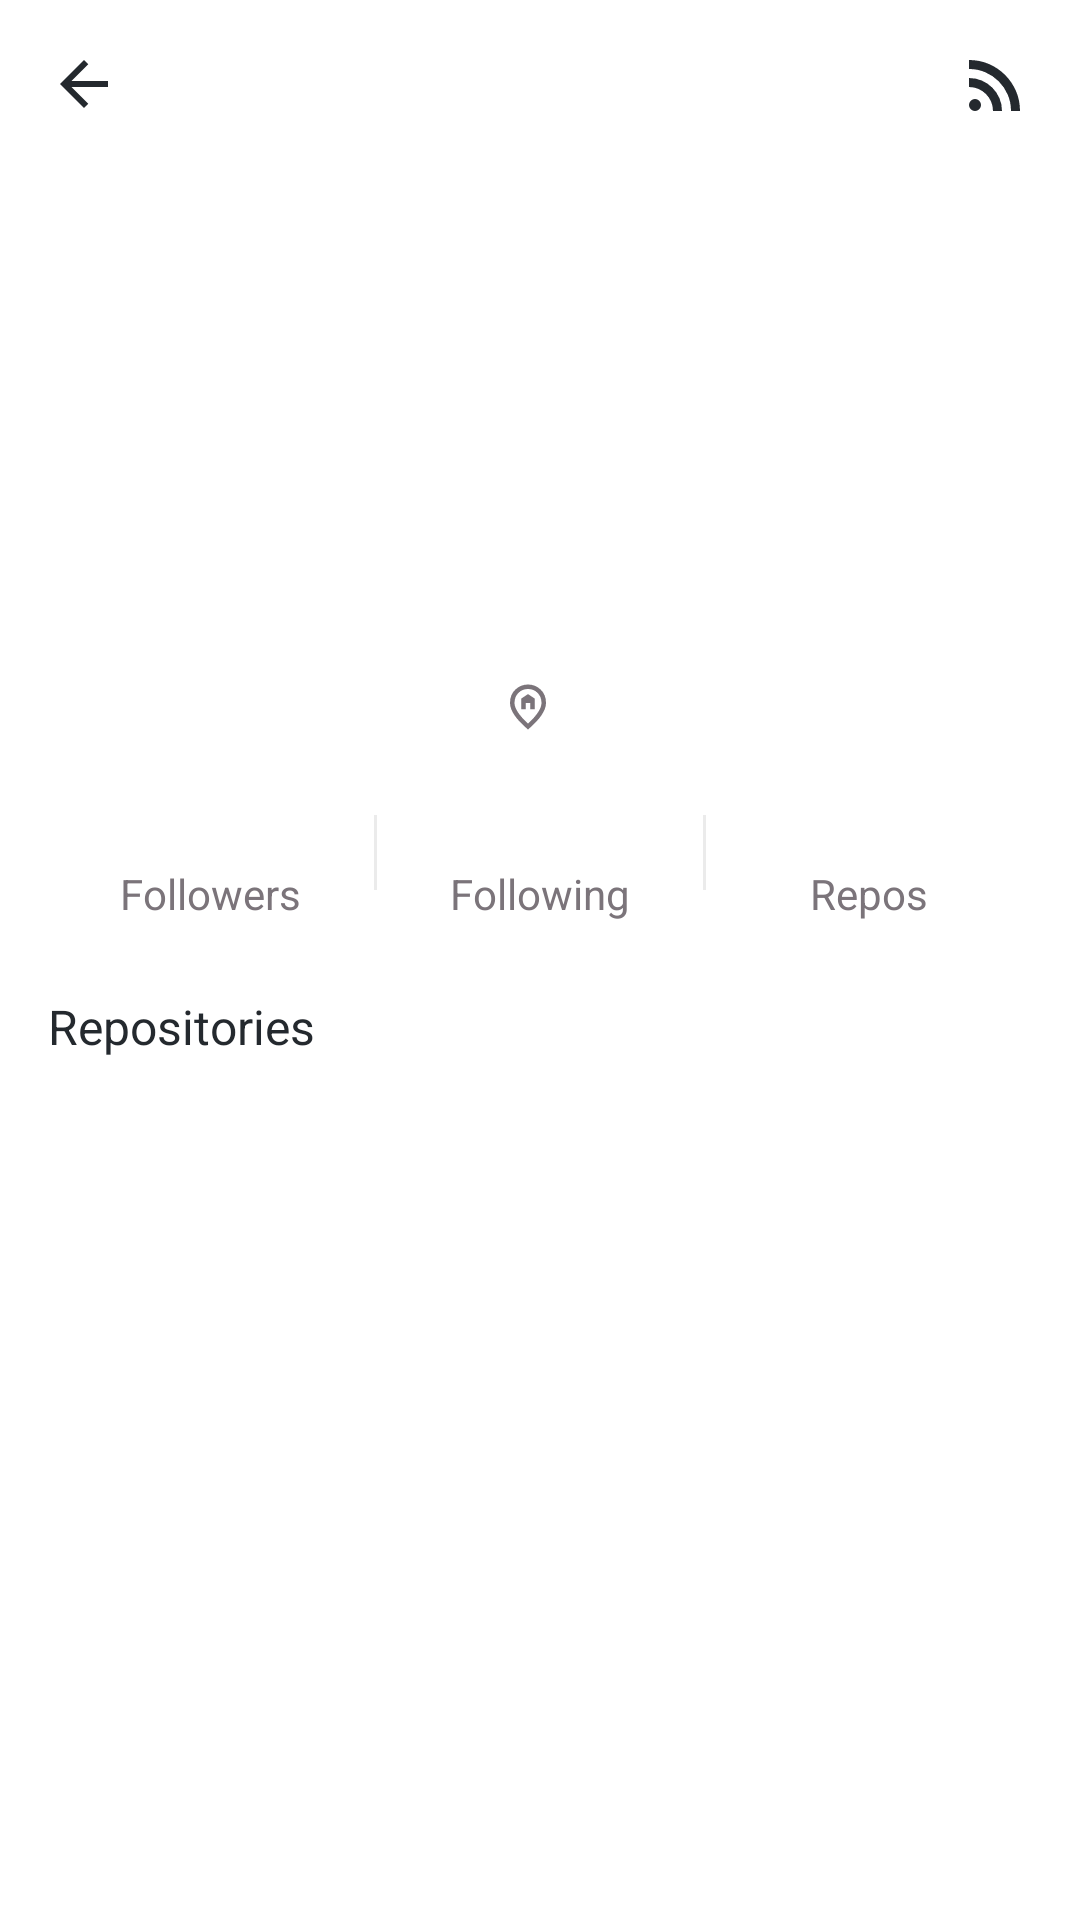

Locate icon controls on the screen. Image size 1080w x 1920h, boxes as [x1=x1, y1=y1, x2=x2, y2=y2].
arrow back: [x1=60, y1=60, x2=108, y2=108]
rss feed: [x1=969, y1=60, x2=1020, y2=111]
